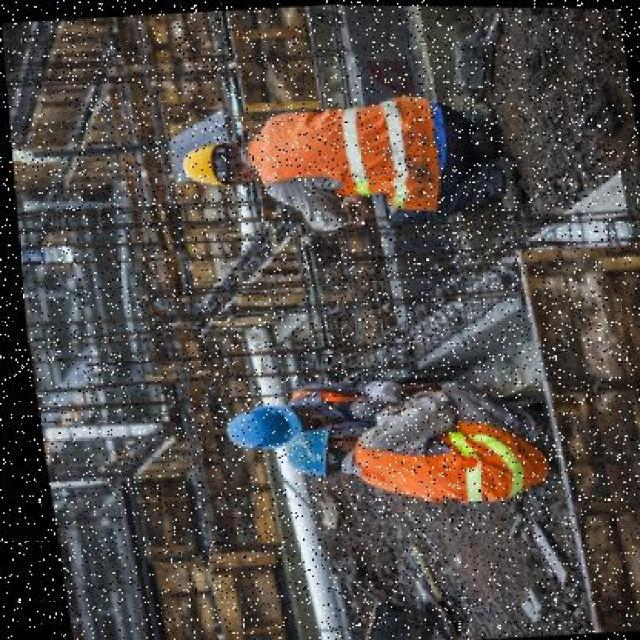helmet: (214, 400, 298, 448), (274, 429, 328, 479), (175, 137, 217, 188)
vest: (248, 86, 446, 216), (341, 413, 539, 509)
